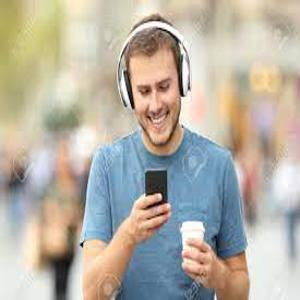Headphones: (114, 14, 193, 111)
